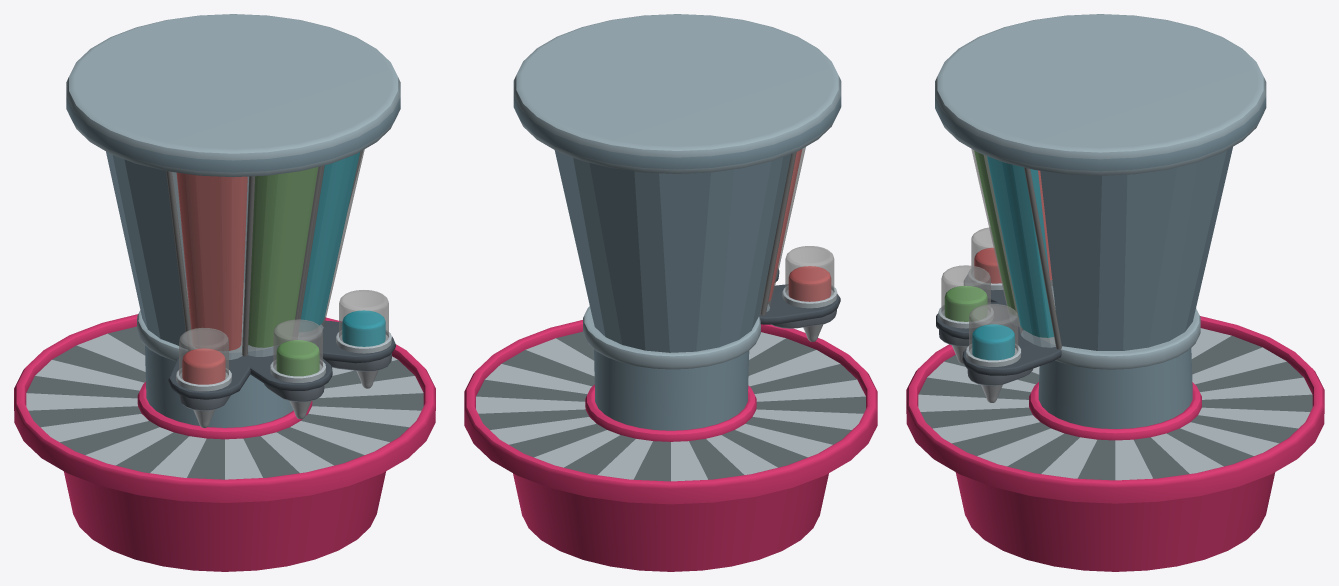
File: machine4.fbx
3 views of the same model, side by side, from view 1: azimuth 30°, elevation 25°; view 2: azimuth 150°, elevation 25°; view 3: azimuth 270°, elevation 25° (orthographic).
Parts seen in each view (by area): view 1: pCylinder26, pCylinder33, pCylinder43, polySurface17, polySurface18, pCylinder42, pCylinder41, pCylinder40, polySurface15, pCylinder27, polySurface19, polySurface21 (+2 smaller); view 2: pCylinder26, pCylinder33, pCylinder43, pCylinder27, pCylinder41, pCylinder47, polySurface21, polySurface17; view 3: pCylinder26, pCylinder33, pCylinder43, pCylinder27, polySurface15, pCylinder42, pCylinder40, pCylinder47, pCylinder41, polySurface18, polySurface22.
Part boxes in pixels (left/top/right/bottom): pCylinder26: left=14, top=314, right=435, bottom=571; pCylinder33: left=66, top=14, right=400, bottom=177; pCylinder43: left=106, top=149, right=364, bottom=359; polySurface17: left=176, top=172, right=247, bottom=350; polySurface18: left=248, top=167, right=318, bottom=347; pCylinder42: left=309, top=290, right=395, bottom=388; pCylinder41: left=168, top=327, right=250, bottom=427; pCylinder40: left=248, top=319, right=332, bottom=418; polySurface15: left=301, top=152, right=359, bottom=325; pCylinder27: left=145, top=345, right=293, bottom=427; polySurface19: left=242, top=176, right=254, bottom=356; polySurface21: left=166, top=171, right=190, bottom=351; pCylinder26: left=464, top=320, right=877, bottom=571; pCylinder33: left=513, top=14, right=841, bottom=173; pCylinder43: left=554, top=147, right=805, bottom=352; pCylinder27: left=594, top=349, right=749, bottom=430; pCylinder41: left=759, top=246, right=840, bottom=341; pCylinder47: left=583, top=306, right=760, bottom=369; polySurface21: left=760, top=152, right=796, bottom=315; polySurface17: left=768, top=149, right=802, bottom=301; pCylinder26: left=906, top=316, right=1324, bottom=571; pCylinder33: left=935, top=14, right=1266, bottom=175; pCylinder43: left=971, top=147, right=1232, bottom=350; pCylinder27: left=1038, top=348, right=1192, bottom=428; polySurface15: left=987, top=156, right=1053, bottom=337; pCylinder42: left=962, top=304, right=1061, bottom=402; pCylinder40: left=936, top=265, right=1020, bottom=363; pCylinder47: left=1040, top=291, right=1200, bottom=369; pCylinder41: left=964, top=227, right=1052, bottom=302; polySurface18: left=974, top=150, right=1015, bottom=311; polySurface22: left=1024, top=167, right=1061, bottom=349.
Bounding box in the file's own units: 745 × 836 × 741.
2 materials, 1 textured.
